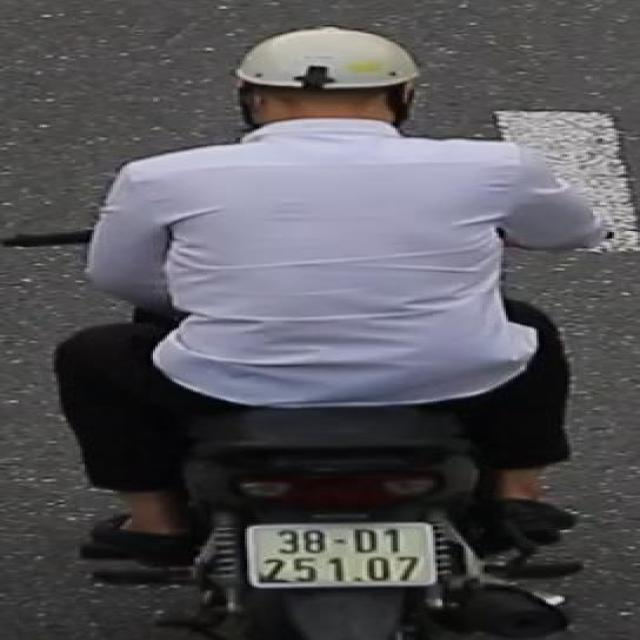LP: (241, 518, 446, 594)
helmet: (215, 19, 439, 149)
